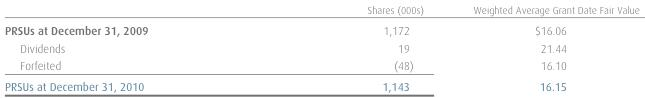table: (3, 4, 638, 92)
table column: (3, 4, 256, 92), (256, 4, 447, 92), (447, 4, 638, 92)
table column header: (3, 4, 638, 19)
table row: (3, 19, 638, 38), (3, 56, 638, 75), (3, 38, 638, 56), (3, 75, 638, 92), (3, 4, 638, 19)
